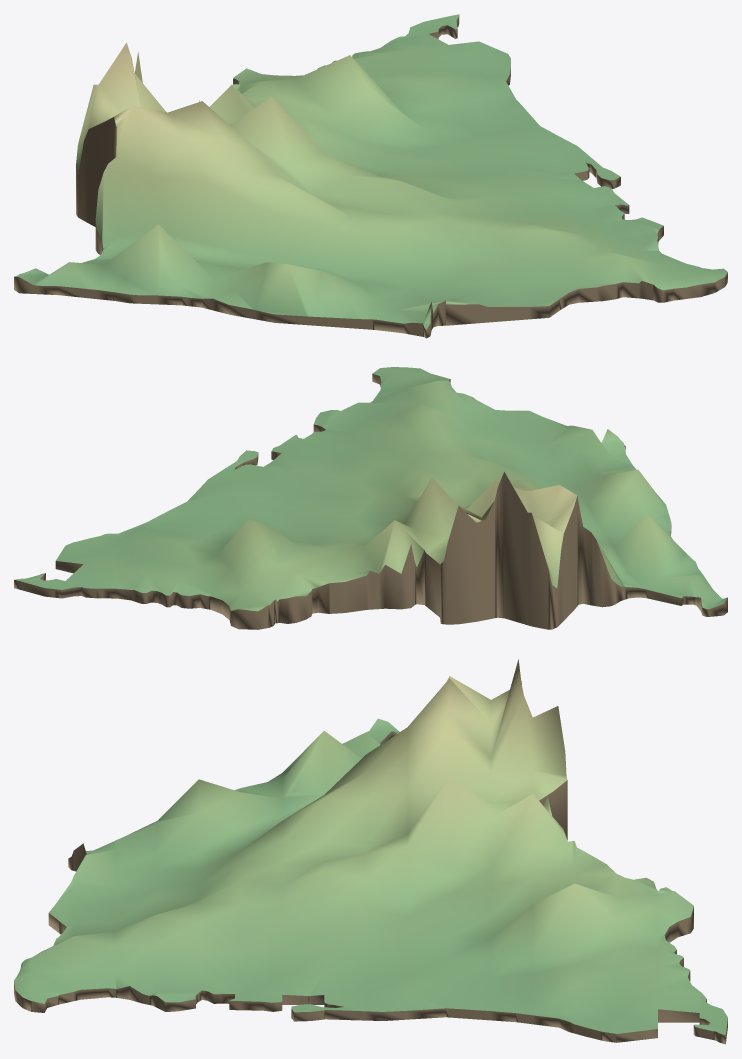
The model's file is NIC.glb.
3 views of the same model, one above another, from view 1: azimuth 30°, elevation 25°; view 2: azimuth 150°, elevation 25°; view 3: azimuth 270°, elevation 25° (orthographic). The views are drawn at different scales.
Visible parts, largest first — view 1: NIC; view 2: NIC; view 3: NIC.
Part boxes in pixels (box(x1,y1,x2,y2)): NIC: box(14, 14, 727, 338); NIC: box(14, 367, 727, 629); NIC: box(14, 659, 727, 1044).
Size of the model in its own units: 1.35 by 0.338 by 1.32.
